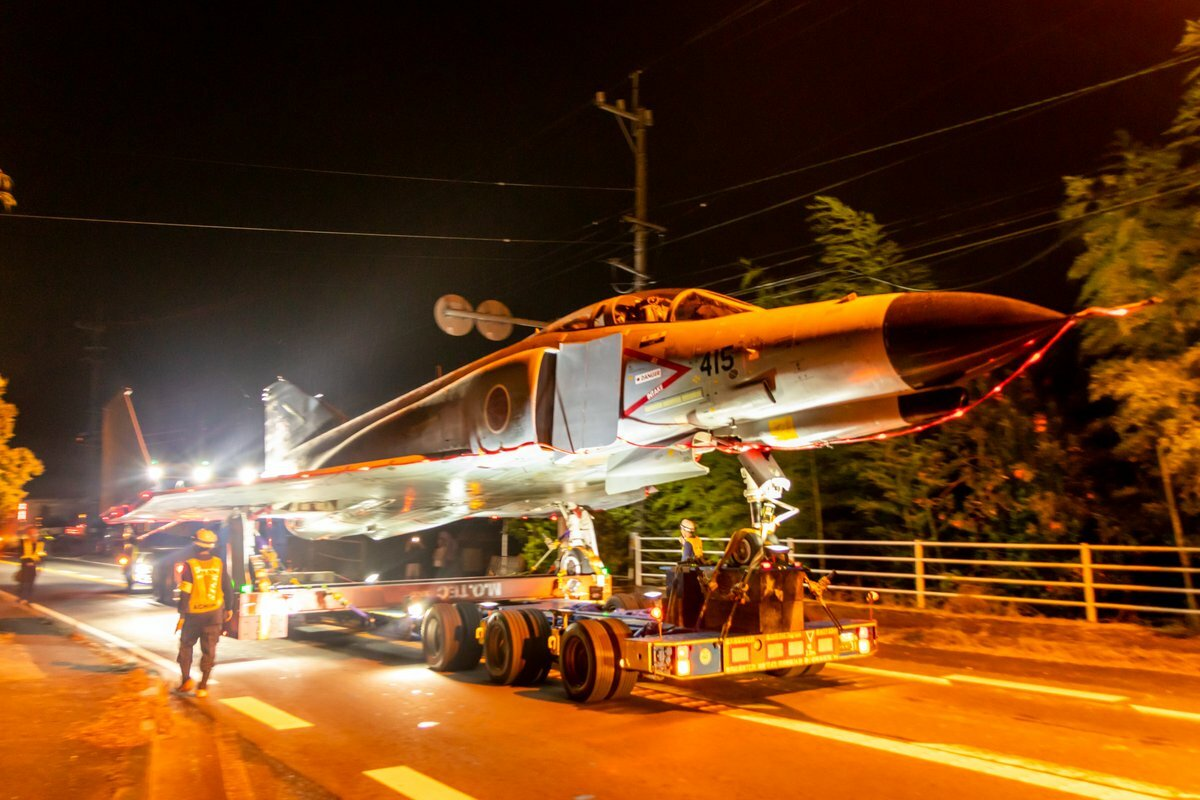F4: (98, 288, 1165, 590)
